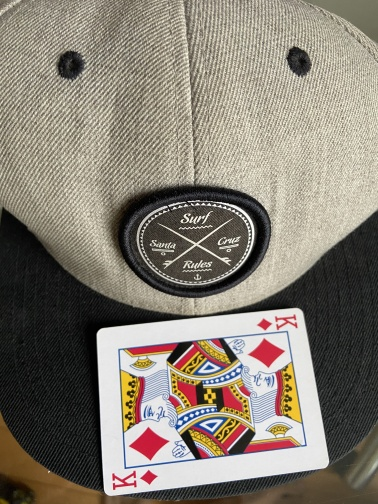king: (95, 306, 331, 498)
